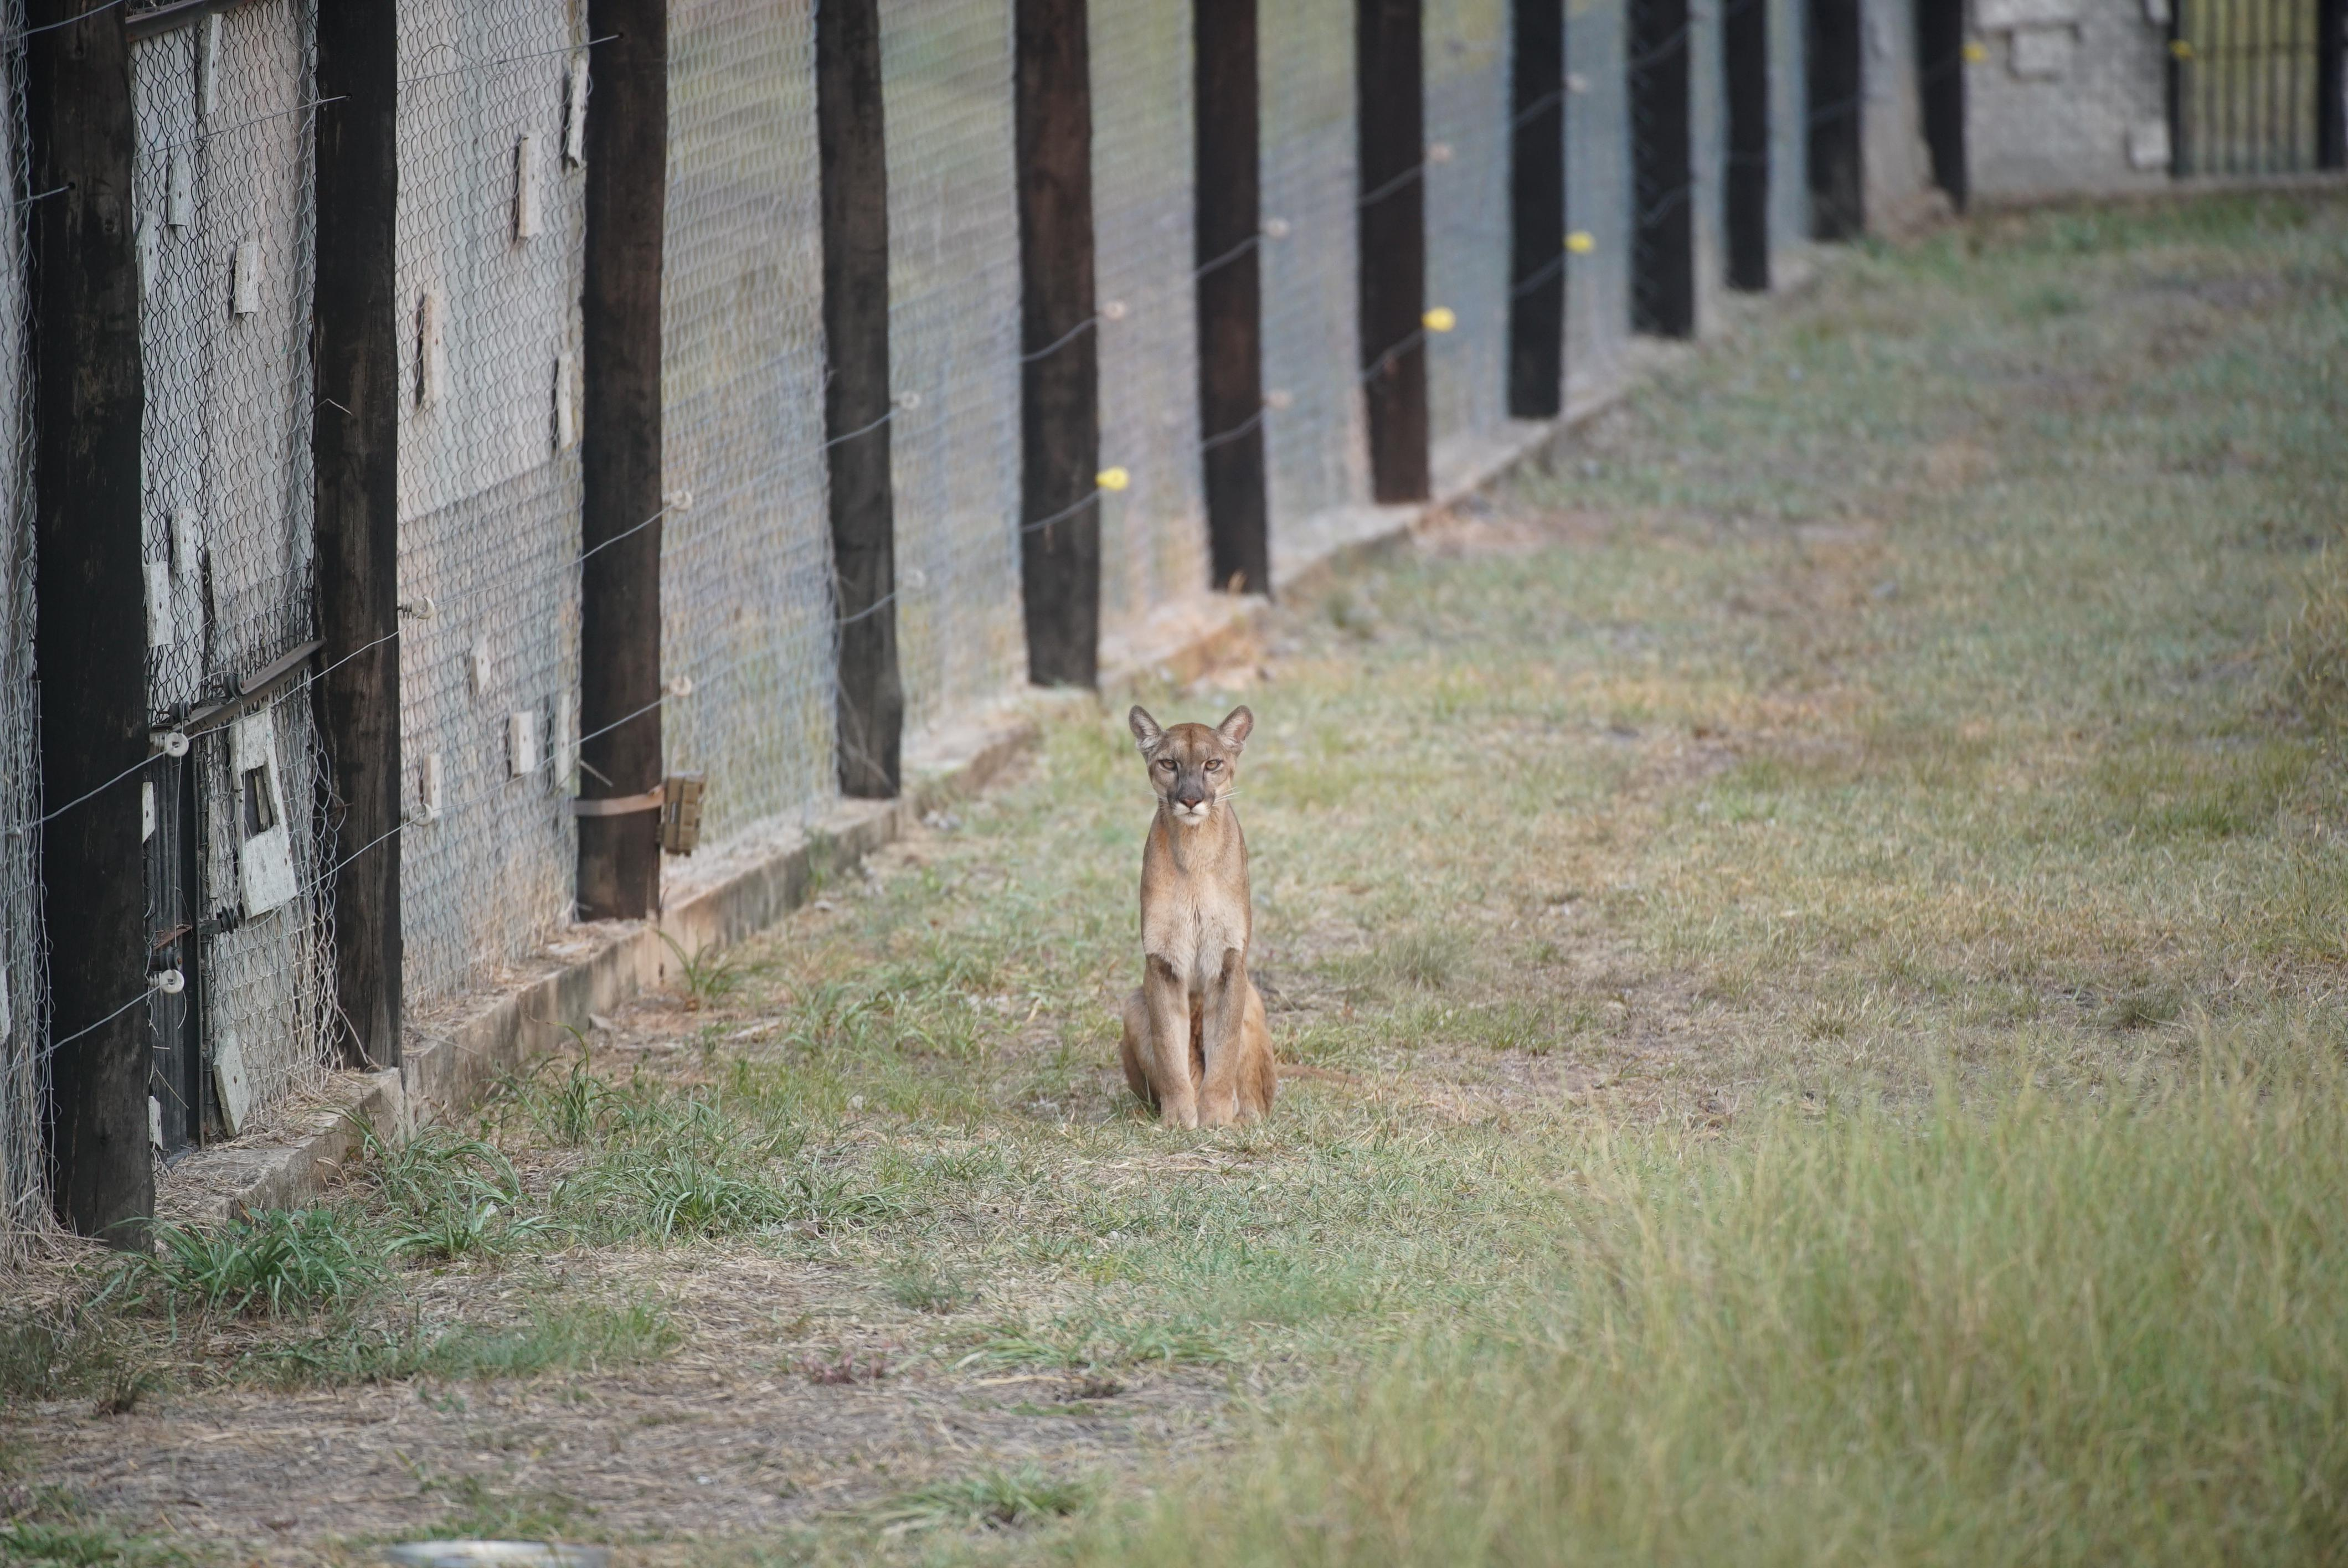OncaParda: (1090, 684, 1321, 1176)
